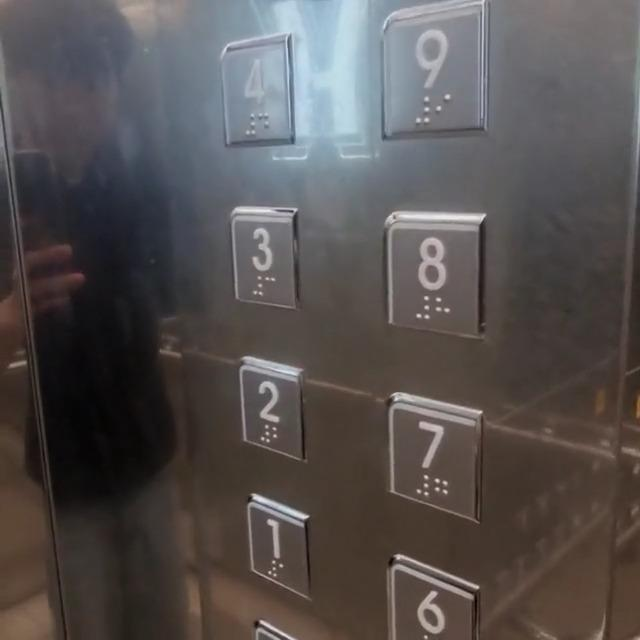button: (377, 215, 492, 343), (383, 17, 498, 139), (383, 398, 493, 522), (367, 553, 477, 640), (238, 502, 322, 599), (232, 211, 305, 319), (219, 49, 296, 151), (234, 360, 309, 463)
